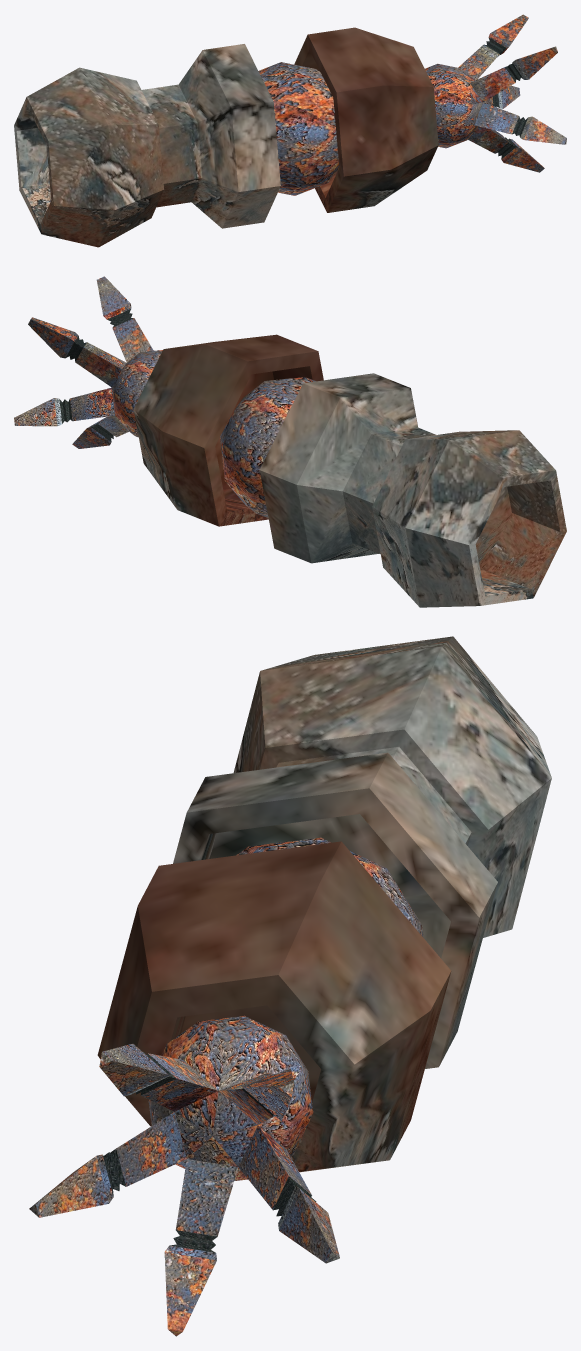
The model's file is DollHand.fbx.
3 views of the same model, one above another, from view 1: azimuth 30°, elevation 25°; view 2: azimuth 150°, elevation 25°; view 3: azimuth 270°, elevation 25° (orthographic). The views are drawn at different scales.
Parts seen in each view (by area): view 1: BrokenDollObj.003; view 2: BrokenDollObj.003; view 3: BrokenDollObj.003.
Part boxes in pixels (x1,y1,x2,y2): BrokenDollObj.003: (14,14,566,247); BrokenDollObj.003: (14,276,566,607); BrokenDollObj.003: (29,636,551,1336).
Size of the model in its own units: 69.73 by 22.33 by 33.07.
